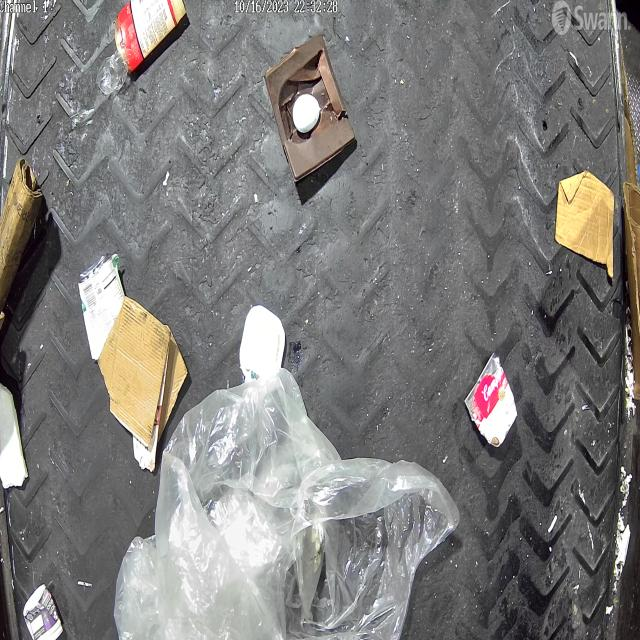can: (78, 250, 126, 360), (465, 352, 519, 448)
